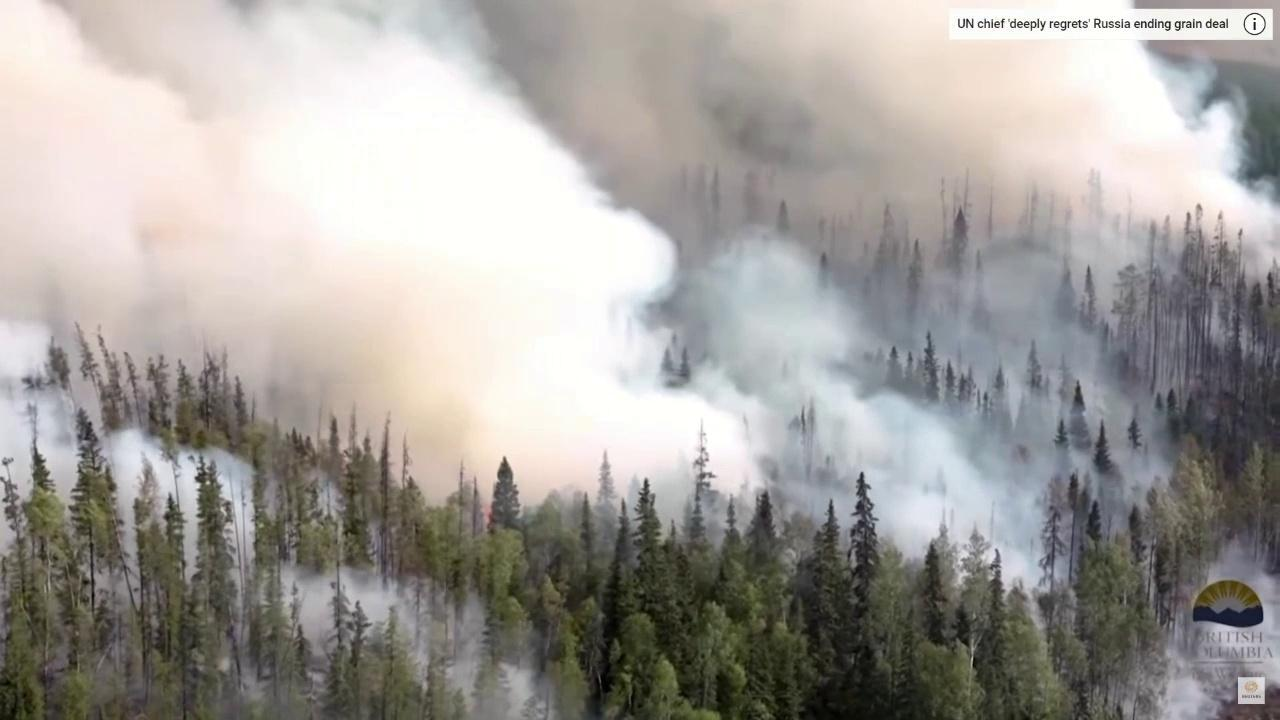fire: (475, 501, 498, 533)
